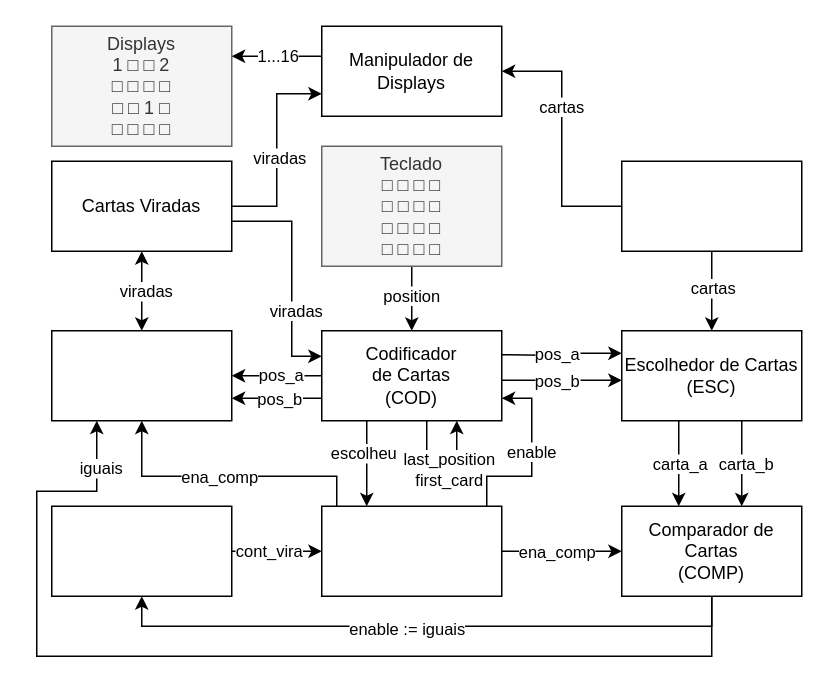
This 828x695 diagram has some shape labels left out. The centre of each missing label's shape, as x and y in pixels:
"Cartas do Jogo" goes at point 711,205.
"Contador de Viradas (CONTA)" goes at point 141,550.
"Máquina de Estados (ME)" goes at point 411,550.
"Vira Cartas (VIRA)" goes at point 141,375.
